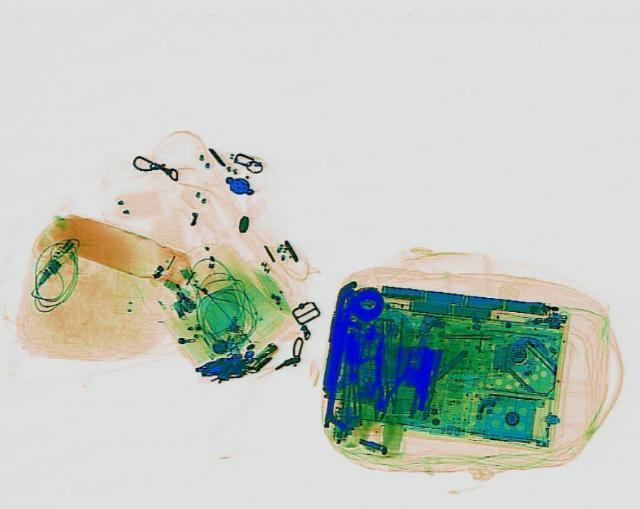Pliers: (358, 333, 418, 424)
